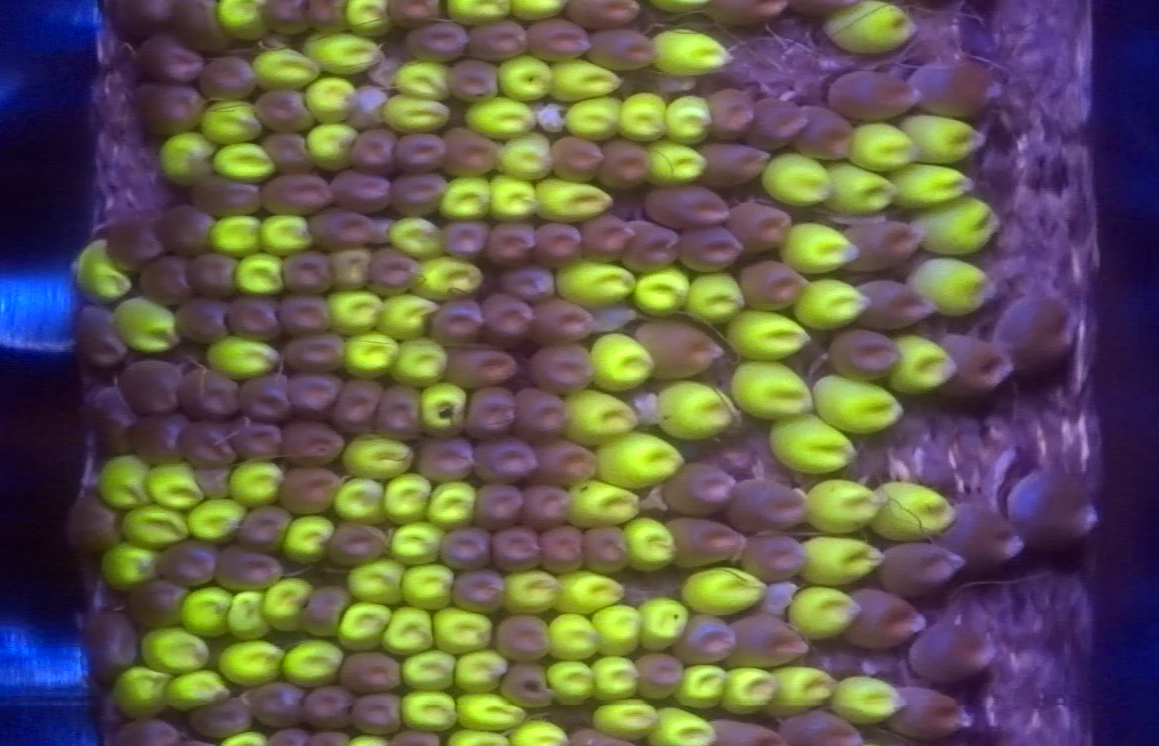fluorescent: (814, 373, 903, 430), (768, 415, 857, 467), (913, 258, 994, 315), (659, 381, 739, 438), (593, 434, 685, 483), (650, 23, 733, 77), (680, 564, 770, 613), (730, 363, 812, 416), (912, 203, 995, 255), (881, 335, 954, 394), (780, 218, 857, 273), (904, 110, 982, 164), (825, 8, 916, 53), (876, 488, 956, 539), (804, 477, 877, 531), (764, 149, 833, 206), (589, 333, 650, 395), (822, 160, 894, 211), (302, 28, 381, 74), (114, 295, 176, 352), (729, 312, 811, 355), (834, 675, 903, 726), (561, 389, 642, 432), (787, 592, 858, 641), (555, 256, 633, 300), (888, 160, 968, 202), (566, 473, 639, 519), (795, 283, 867, 327), (801, 542, 878, 581), (539, 180, 611, 221), (382, 89, 452, 131), (74, 245, 130, 296), (409, 258, 482, 297), (204, 337, 280, 374), (455, 688, 527, 727), (494, 56, 552, 104), (851, 122, 911, 168), (622, 521, 676, 571), (548, 58, 617, 97), (775, 667, 833, 713), (642, 141, 705, 182), (414, 386, 467, 434), (252, 46, 315, 86), (201, 98, 261, 140), (552, 573, 625, 607), (261, 581, 311, 630), (688, 273, 744, 316), (123, 511, 188, 548), (639, 598, 688, 647), (342, 332, 394, 378), (141, 630, 207, 666), (588, 698, 654, 734), (633, 267, 688, 310), (397, 61, 453, 103), (102, 459, 149, 509), (285, 639, 339, 682), (187, 499, 242, 541), (567, 97, 621, 139), (327, 284, 381, 326), (211, 209, 258, 257), (114, 672, 169, 713), (666, 98, 715, 144), (261, 210, 311, 255), (398, 693, 457, 731), (456, 653, 510, 694), (464, 98, 533, 130), (344, 435, 407, 470), (146, 465, 198, 507), (653, 708, 717, 742), (95, 550, 157, 585), (504, 572, 558, 612), (304, 78, 355, 120), (546, 618, 598, 659), (186, 585, 226, 638), (339, 476, 383, 524), (682, 660, 726, 708), (377, 296, 434, 333), (347, 564, 404, 601), (304, 125, 353, 168), (156, 133, 207, 174), (391, 342, 447, 379), (502, 136, 552, 177), (624, 93, 664, 144), (288, 515, 332, 561), (543, 666, 596, 704), (220, 647, 279, 681), (228, 462, 278, 502), (438, 614, 492, 651), (339, 604, 390, 643), (490, 174, 536, 217), (228, 254, 280, 292), (225, 589, 266, 637), (384, 614, 433, 654), (726, 668, 770, 712), (388, 523, 440, 560), (214, 146, 274, 178), (404, 571, 452, 611), (392, 212, 441, 251), (429, 485, 474, 527), (593, 662, 640, 700), (443, 1, 512, 26), (342, 1, 397, 32), (170, 678, 226, 708), (403, 654, 451, 689), (216, 4, 265, 38), (593, 616, 640, 651), (383, 481, 425, 519), (442, 181, 489, 214), (511, 717, 568, 744), (510, 1, 568, 21)
nonfluorescent: (1008, 465, 1101, 555), (941, 500, 1025, 580), (1004, 293, 1079, 382), (841, 584, 926, 652), (902, 621, 997, 681), (636, 320, 727, 380), (913, 58, 1001, 120), (892, 683, 977, 743), (724, 614, 813, 670), (724, 479, 812, 535), (938, 330, 1011, 395), (881, 539, 967, 593), (829, 70, 918, 120), (831, 324, 904, 384), (661, 457, 734, 516), (852, 278, 934, 330), (86, 608, 140, 685), (736, 257, 811, 312), (118, 358, 183, 418), (666, 517, 741, 568), (71, 303, 126, 371), (841, 220, 918, 268), (66, 490, 124, 553), (531, 340, 597, 395), (129, 82, 201, 132), (795, 103, 855, 163), (741, 530, 811, 580), (724, 199, 791, 251), (179, 369, 241, 425), (645, 184, 729, 225), (478, 290, 536, 349), (188, 172, 264, 217), (472, 438, 543, 486), (371, 383, 426, 444), (591, 25, 658, 75), (673, 613, 737, 665), (701, 140, 770, 188), (748, 96, 806, 153), (286, 368, 346, 423), (279, 465, 345, 515), (133, 36, 204, 82), (209, 547, 283, 591), (511, 388, 567, 446), (531, 438, 598, 486), (262, 173, 335, 217), (443, 126, 502, 180), (529, 300, 601, 344), (780, 707, 861, 746), (158, 538, 221, 588), (101, 224, 166, 272), (280, 419, 346, 466), (101, 1, 173, 44), (620, 220, 681, 270), (383, 171, 447, 218), (487, 523, 544, 575), (446, 348, 522, 386), (416, 437, 477, 484), (172, 1, 225, 55), (138, 256, 194, 307), (341, 649, 403, 695), (173, 297, 231, 346), (329, 517, 388, 565), (246, 680, 305, 728), (463, 382, 515, 436), (161, 205, 217, 255), (234, 370, 290, 420), (576, 525, 633, 574), (330, 169, 392, 214), (90, 383, 127, 458), (177, 418, 236, 465), (406, 19, 469, 63), (129, 580, 189, 626), (582, 214, 636, 265), (431, 298, 485, 349), (525, 19, 589, 62), (131, 417, 186, 467), (236, 505, 291, 555), (503, 660, 559, 709), (467, 20, 532, 62), (306, 209, 372, 250), (281, 334, 347, 375), (489, 218, 541, 270), (633, 649, 686, 700), (452, 566, 506, 616), (226, 295, 281, 344), (435, 528, 492, 575), (681, 230, 746, 271), (301, 684, 352, 735), (188, 697, 253, 737), (443, 56, 502, 100), (521, 481, 569, 535), (536, 520, 583, 575), (549, 135, 606, 180), (349, 689, 406, 734), (280, 247, 331, 297), (472, 480, 523, 530), (496, 612, 551, 658), (335, 376, 377, 436), (706, 712, 780, 746), (564, 1, 650, 30), (185, 255, 239, 301), (275, 293, 334, 335), (254, 87, 309, 132), (266, 132, 321, 176), (204, 59, 260, 102), (395, 131, 451, 174), (306, 586, 352, 638), (605, 142, 653, 191), (498, 264, 555, 305), (231, 420, 284, 464), (369, 248, 416, 297), (706, 1, 790, 28), (352, 127, 399, 175), (709, 87, 751, 140), (536, 217, 586, 261), (441, 218, 493, 260), (117, 717, 180, 746), (390, 1, 443, 32), (265, 1, 310, 37), (306, 1, 349, 34)
